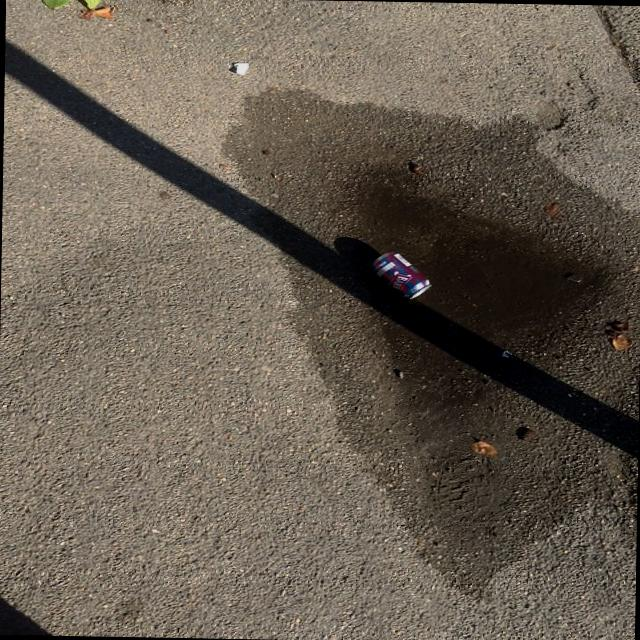Trash: (364, 246, 445, 305)
